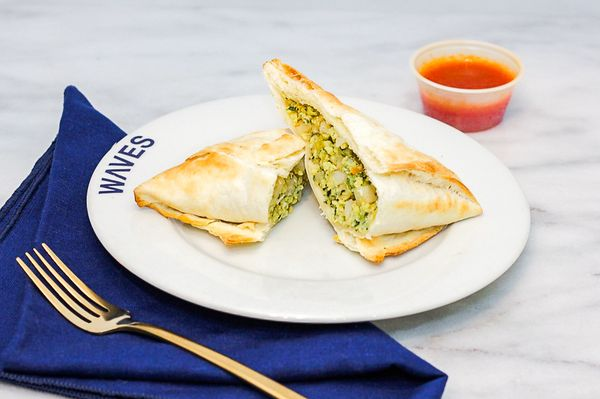burger: (14, 241, 306, 396)
soup: (263, 57, 480, 264), (133, 128, 308, 246)
sushi: (410, 38, 524, 133)
